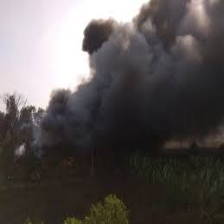smoke: (40, 1, 224, 151)
